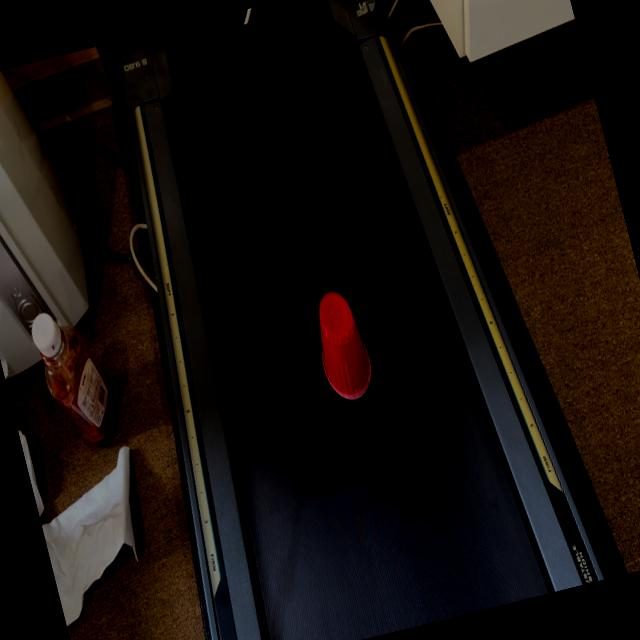Recycle: (304, 285, 379, 406)
